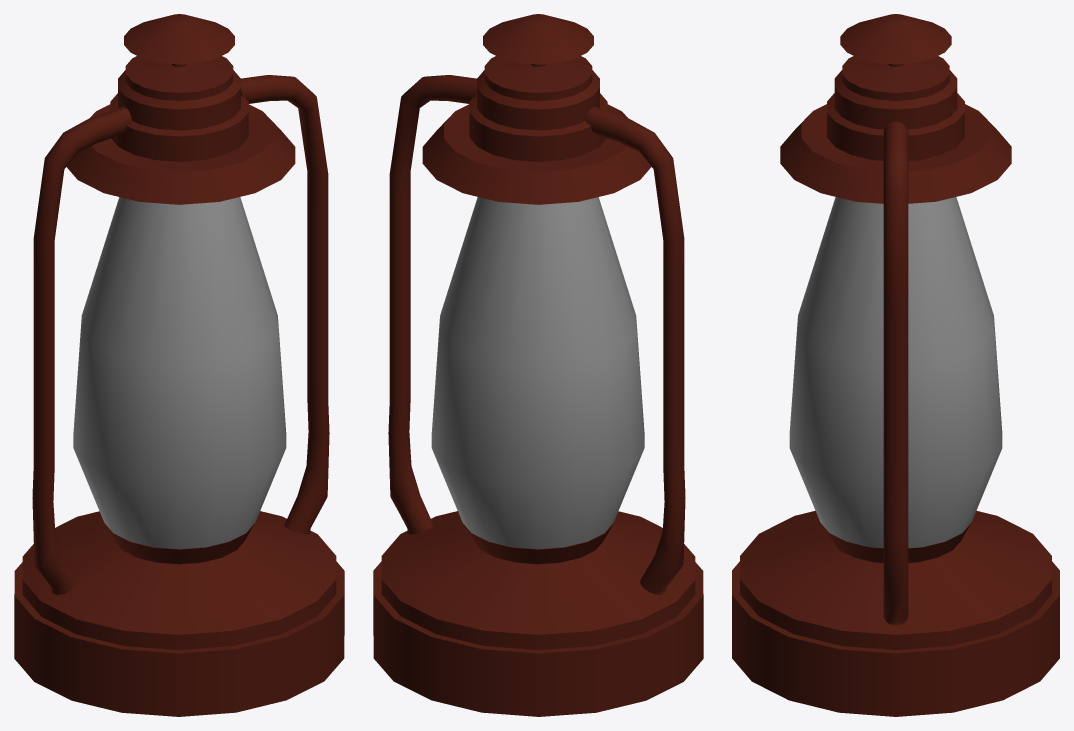
Rendered from OilLamp.FBX.
The picture shows the model from 3 angles, left to right: view 1: azimuth 30°, elevation 25°; view 2: azimuth 150°, elevation 25°; view 3: azimuth 270°, elevation 25°; orthographic projection.
Visible parts, largest first — view 1: Cylinder001, Glass; view 2: Cylinder001, Glass; view 3: Cylinder001, Glass.
Part boxes in pixels (x1,y1,x2,y2): Cylinder001: (14,14,344,716); Glass: (73,197,286,549); Cylinder001: (373,14,703,716); Glass: (431,197,644,549); Cylinder001: (732,14,1059,716); Glass: (789,197,1002,548).
Bounding box in the file's own units: 0.4411 × 0.9005 × 0.4273.
